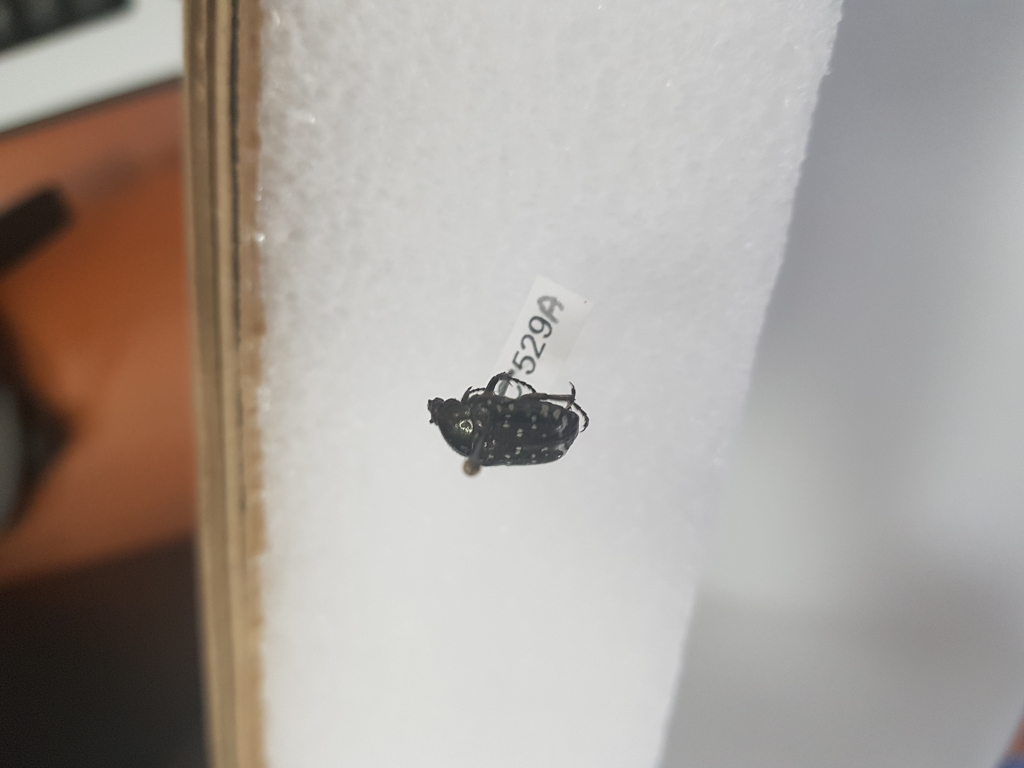Oxythyrea_funesta: (421, 374, 594, 475)
